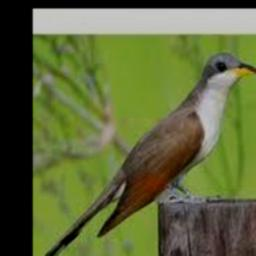Cuckoo: (39, 52, 256, 256)
